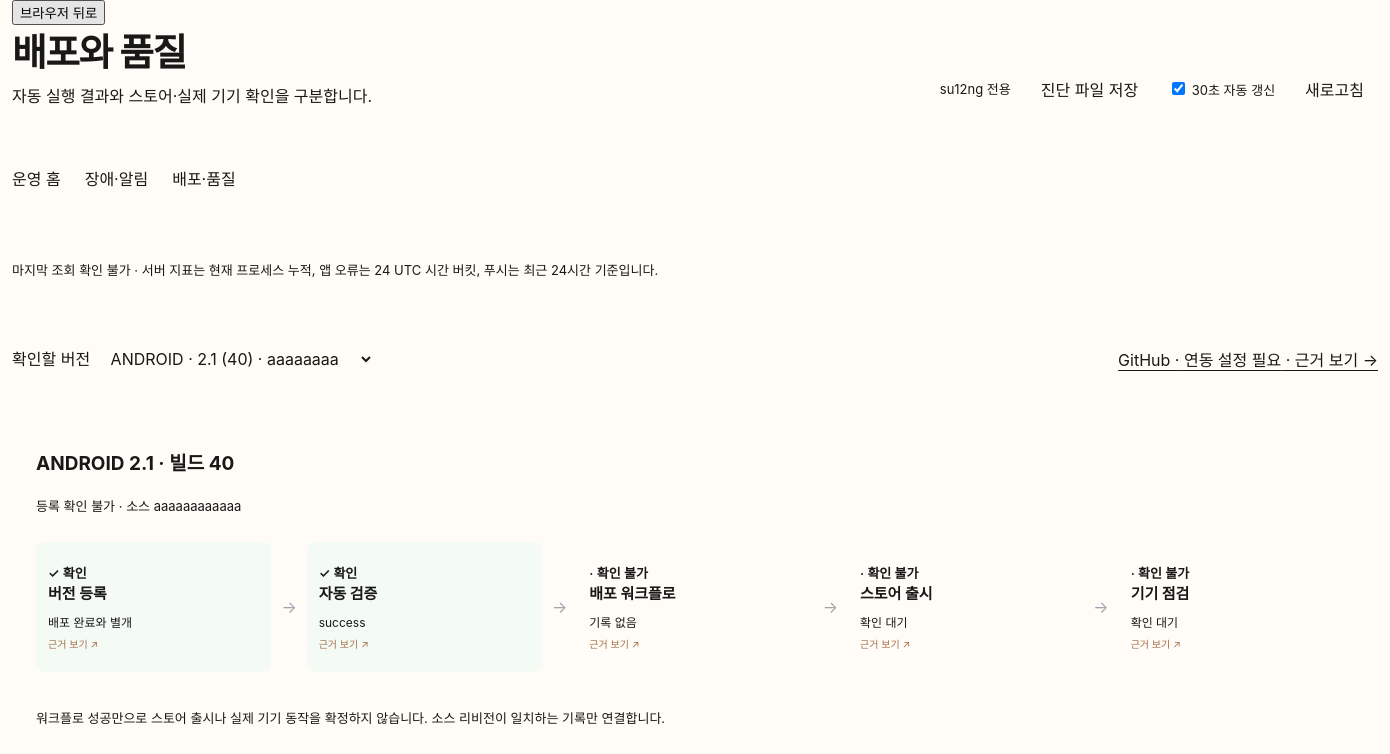
release diagram and result statuses show exact revision and check histories without recording checks
Click the button with aria-label "자동 검증 근거 보기": click(424, 607) 319,562 -> 530,652
(page scrolled)
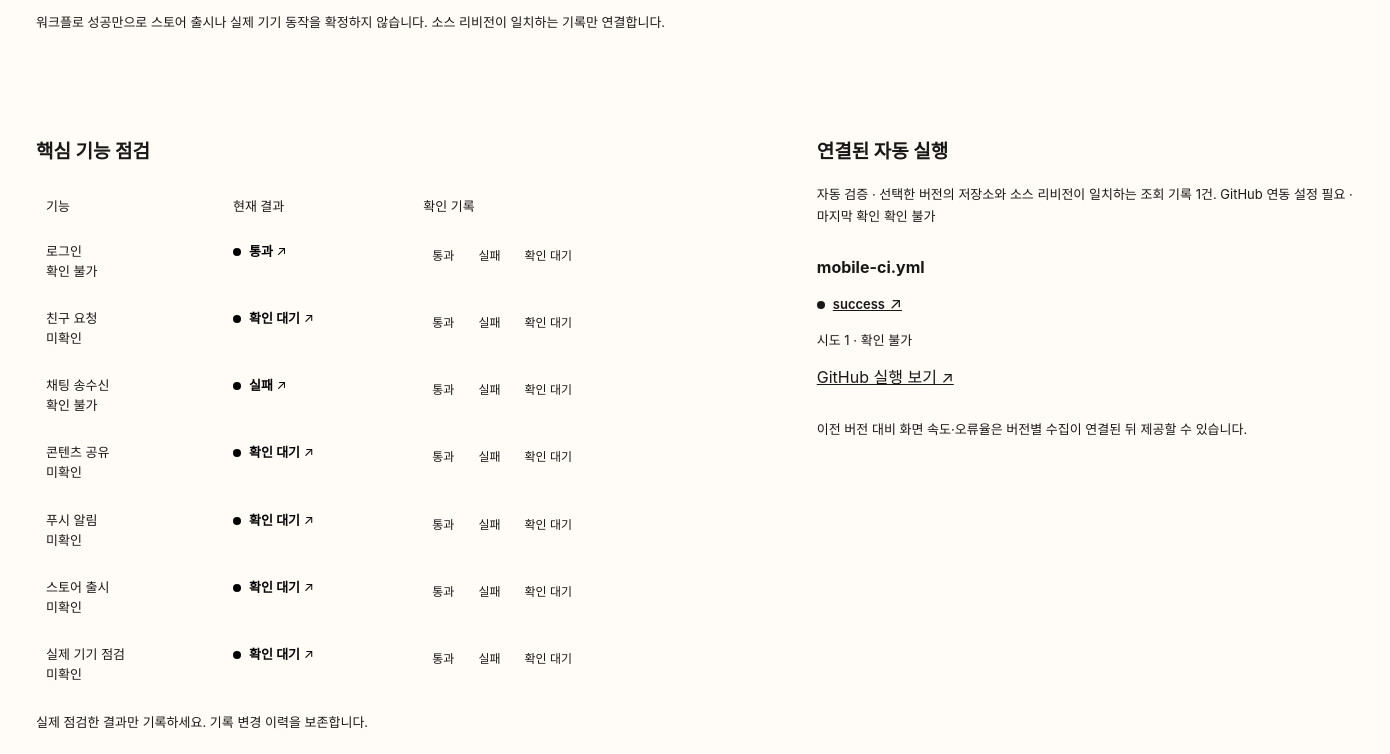
expect the text "조회 기록 1건" is shown: met, box 817,183 -> 1354,227
Click the button with aria-label "채팅 송수신 점검 이력 보기": click(260, 385) 233,375 -> 287,394
(page scrolled)
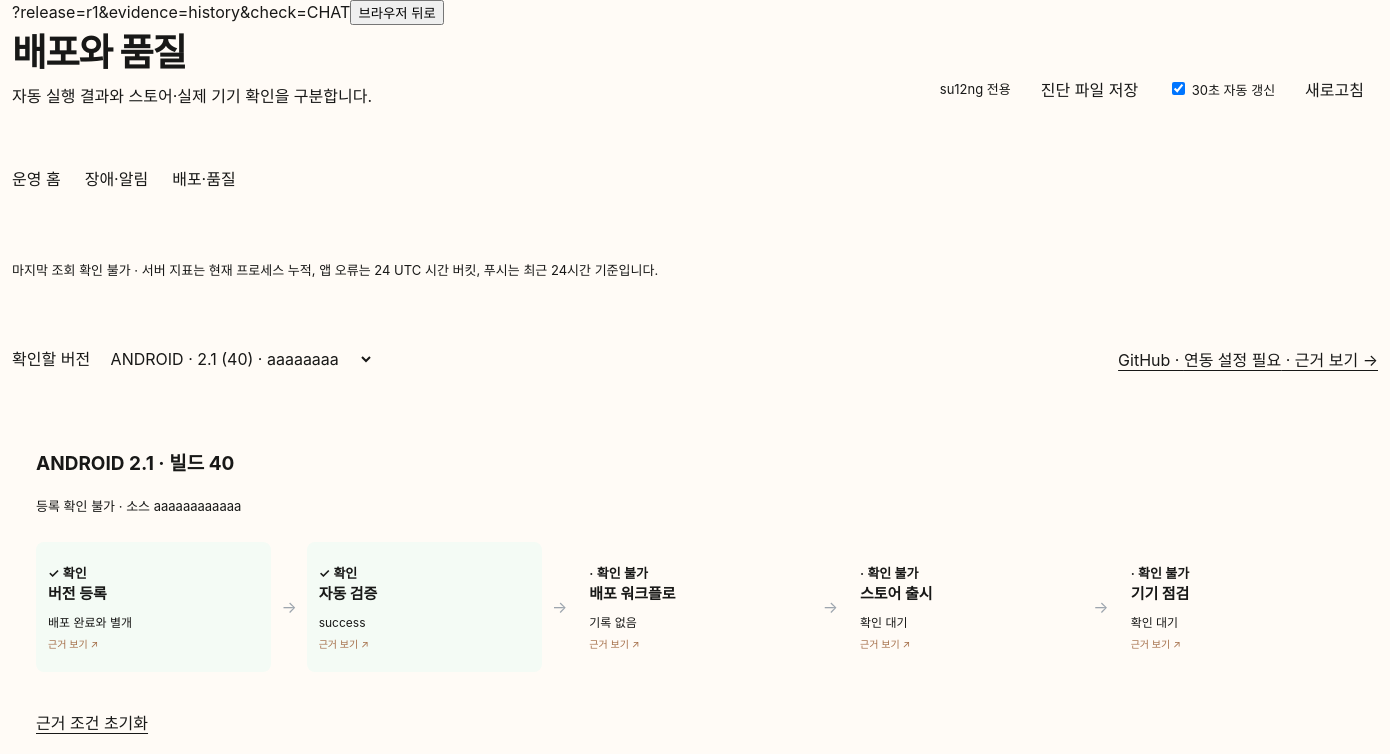
expect the text with test id "location" shows "check=CHAT": met, box 12,2 -> 350,22
